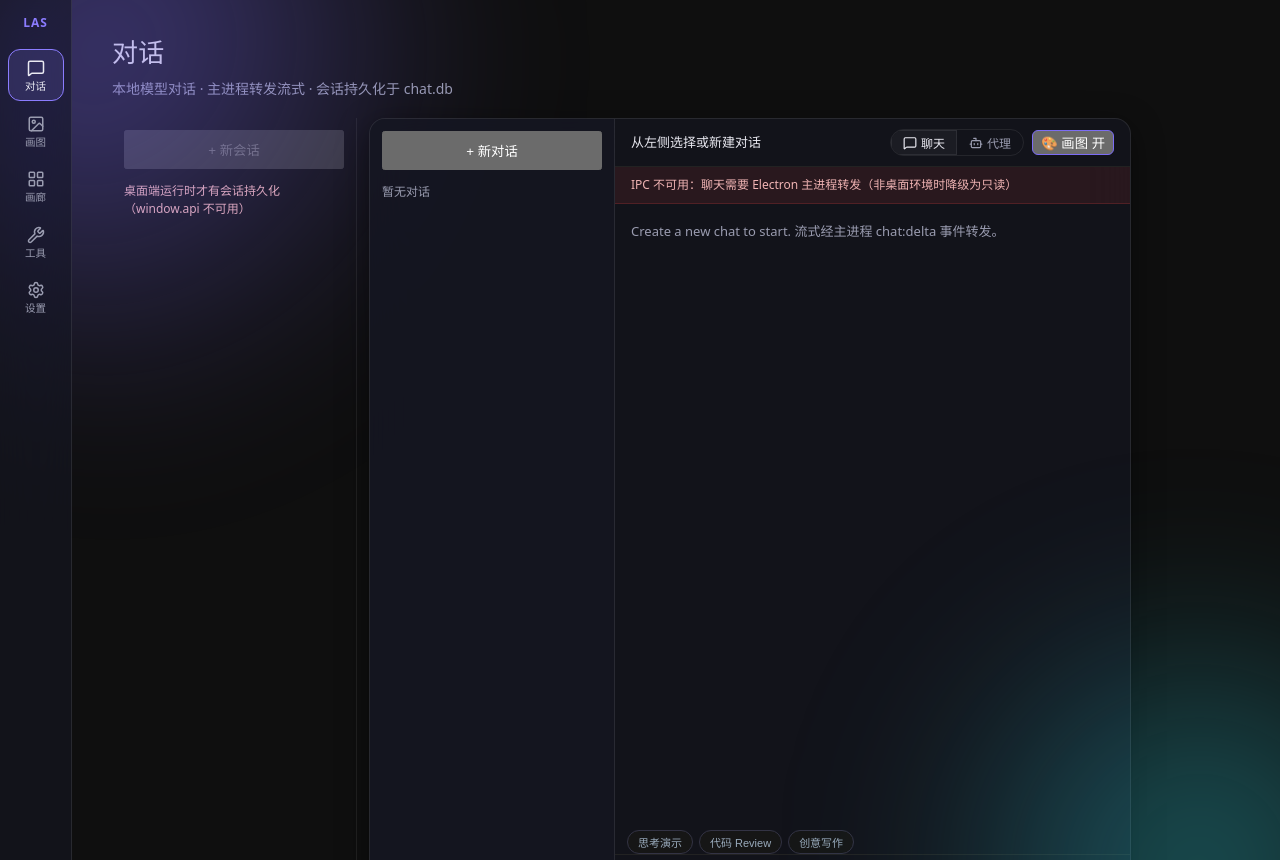
应用壳导航 › 点击导航切换路由改变页面标题
What coordinates should you click on to do the following:
click the button with class "las-nav-item" showing "设置"
I would click on:
 (36, 297)
Its box is [8,271,64,323].
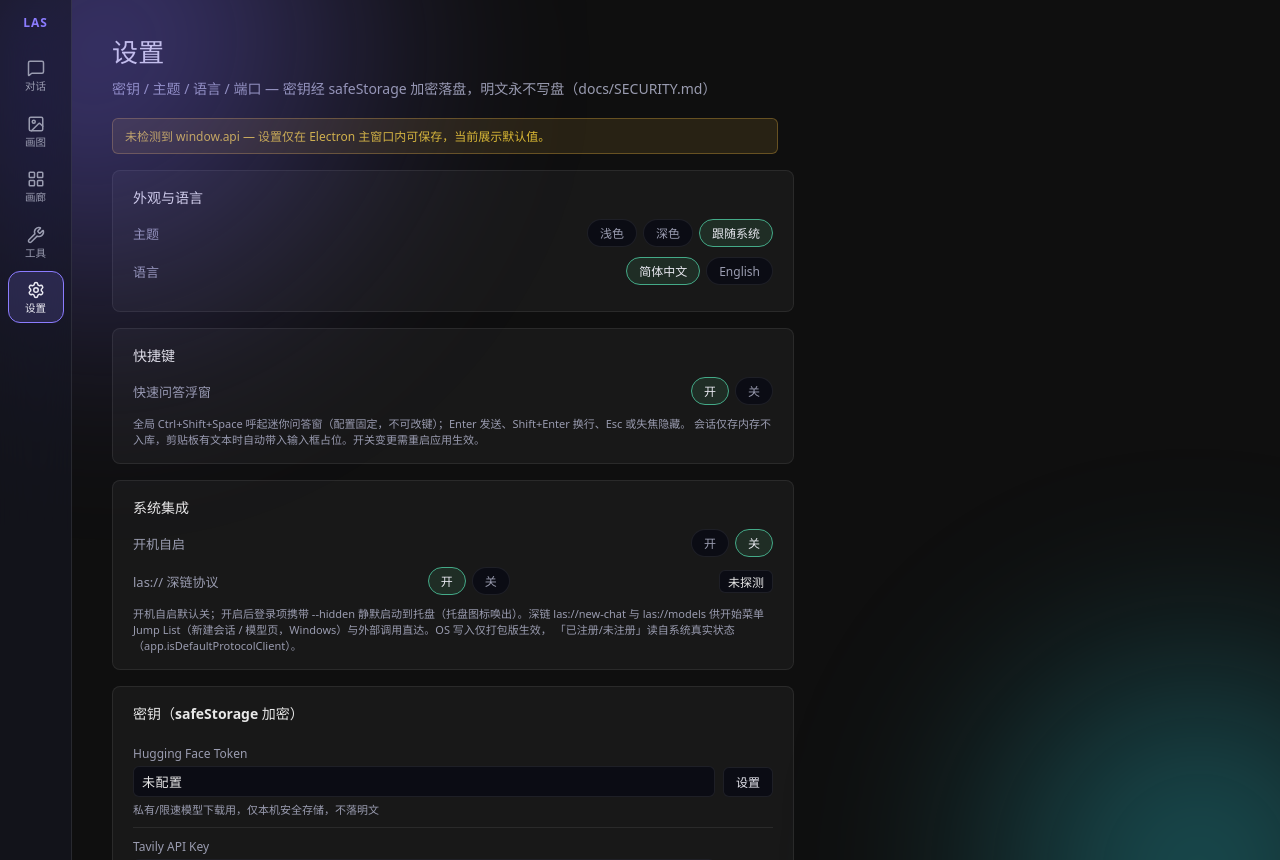
Expected: the heading "设置" is shown, [112,34,164,70]
What coordinates should you click on to do the following:
click the button with class "las-nav-item" showing "工具"
I would click on:
 (36, 242)
Its box is [8,216,64,267].
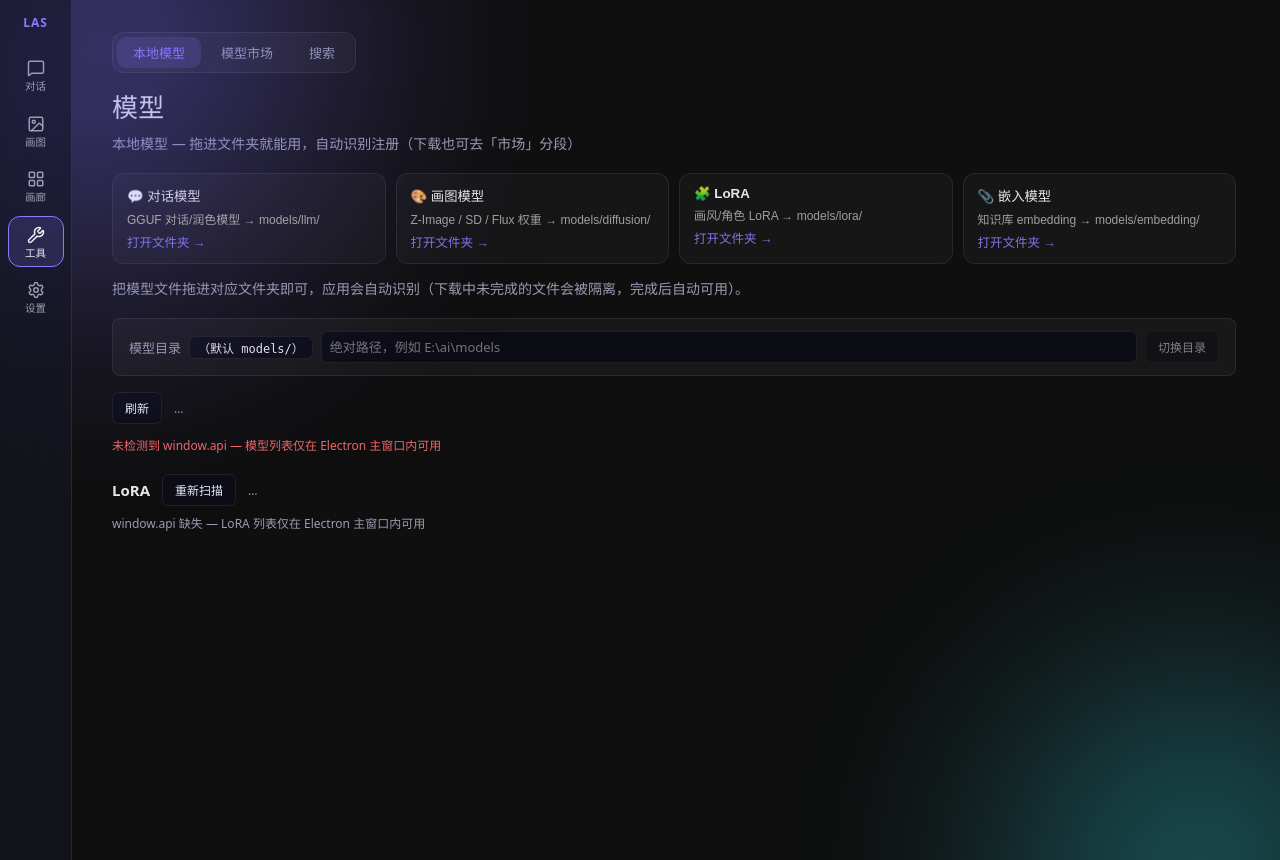
Expected: the heading "模型" is shown, [112,89,164,125]
